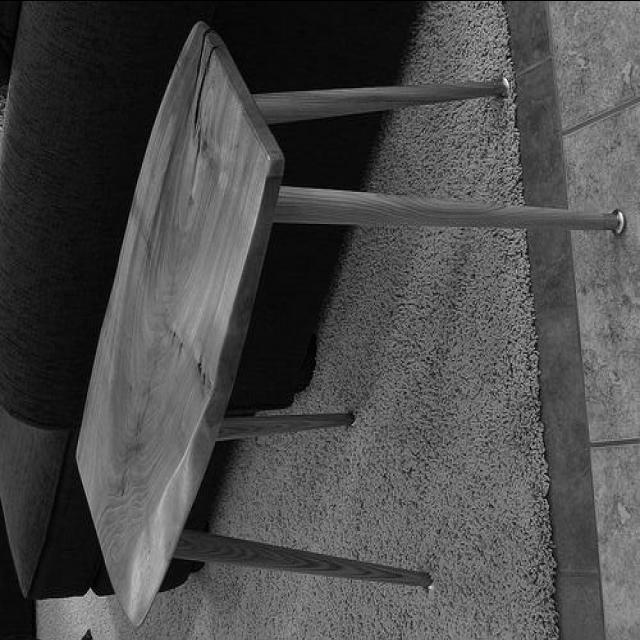table: (74, 28, 624, 622)
